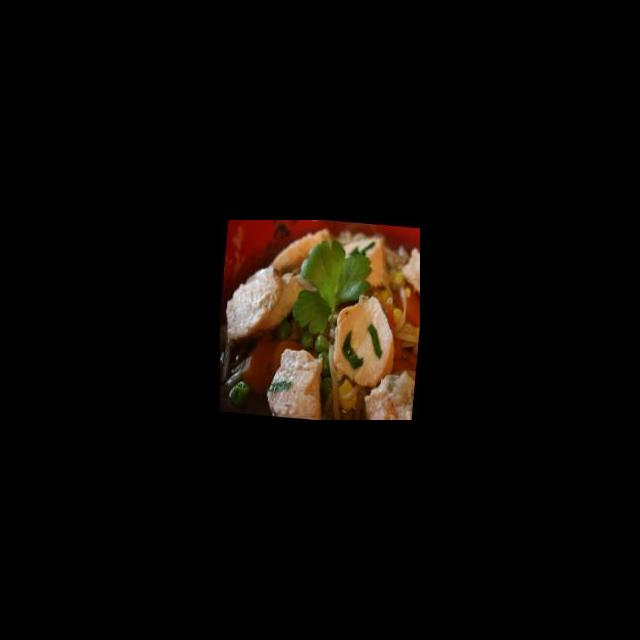ca hoi: (225, 245, 329, 336), (330, 292, 400, 390), (258, 340, 339, 420), (361, 360, 416, 420)
